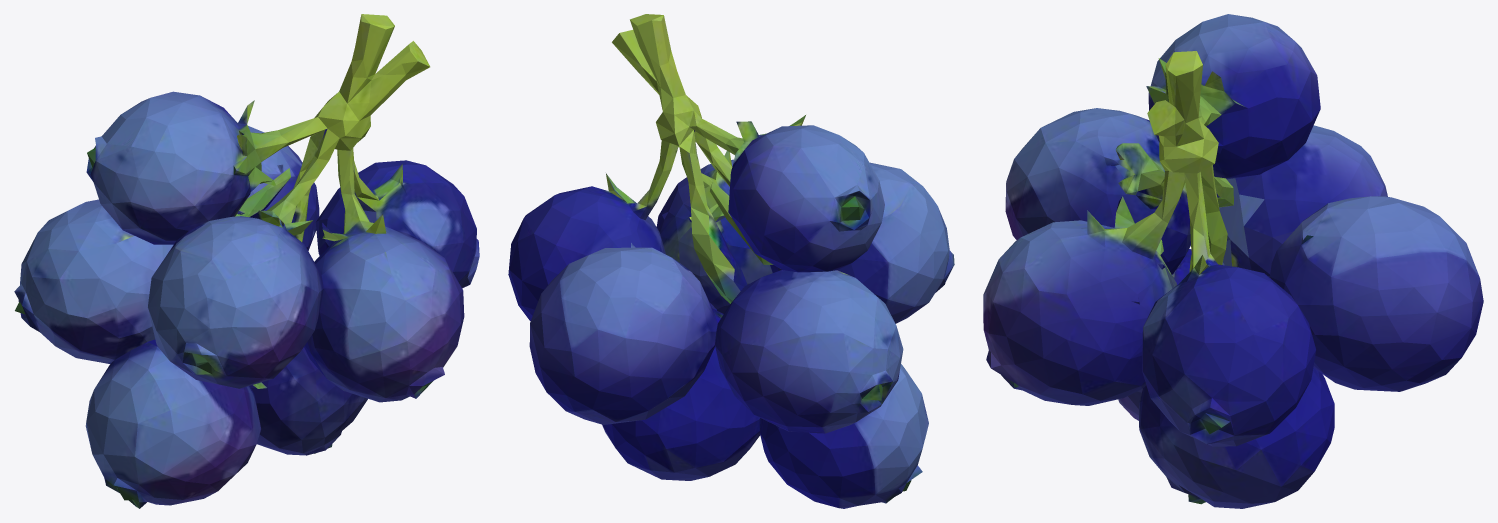
Rendered from berry_blue.glb.
The picture shows the model from 3 angles, left to right: view 1: azimuth 30°, elevation 25°; view 2: azimuth 150°, elevation 25°; view 3: azimuth 270°, elevation 25°; orthographic projection. The views are drawn at different scales.
Visible parts, largest first — view 1: tmprenn24w6.ply; view 2: tmprenn24w6.ply; view 3: tmprenn24w6.ply.
Boxes of the visible parts, x1=… form: tmprenn24w6.ply: x1=14, y1=14, x2=479, y2=508; tmprenn24w6.ply: x1=508, y1=14, x2=954, y2=508; tmprenn24w6.ply: x1=983, y1=14, x2=1483, y2=508.
Bounding box in the file's own units: 1.99 × 2 × 1.87.
Materials: 1 (1 with a texture image).
